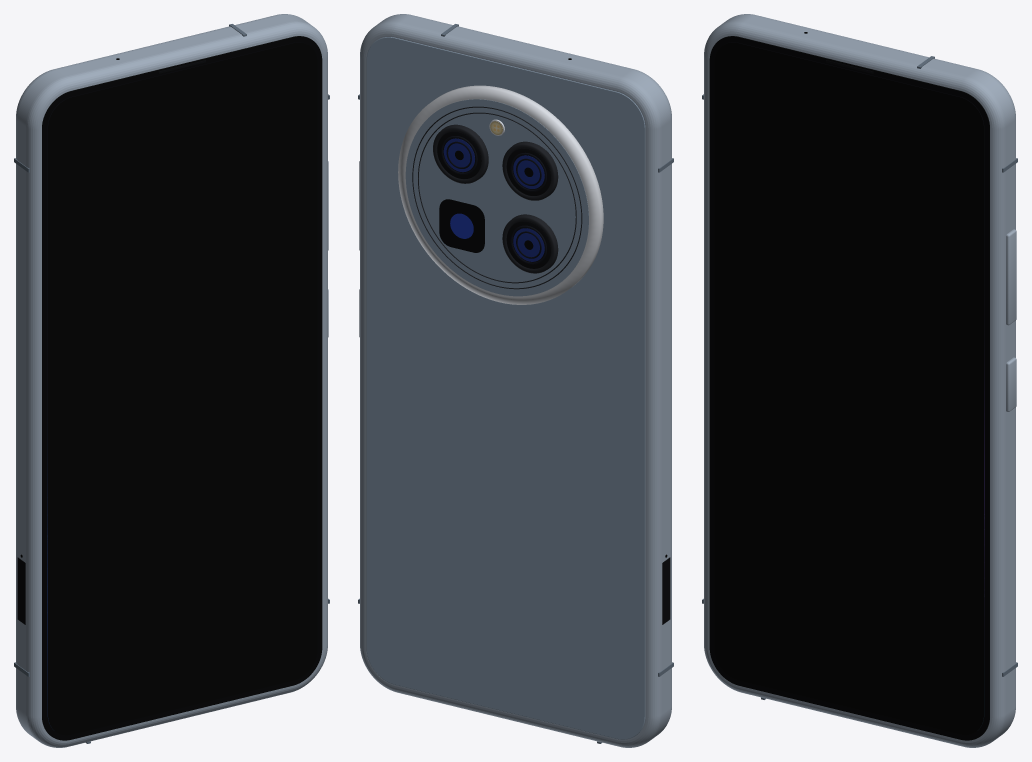
File: nexphone-circle.glb
The picture shows the model from 3 angles, left to right: view 1: azimuth 30°, elevation 25°; view 2: azimuth 150°, elevation 25°; view 3: azimuth 330°, elevation 25°; orthographic projection.
Bounding box in the file's own units: 0.7696 × 1.62 × 0.151.
17 materials, 2 textured.
